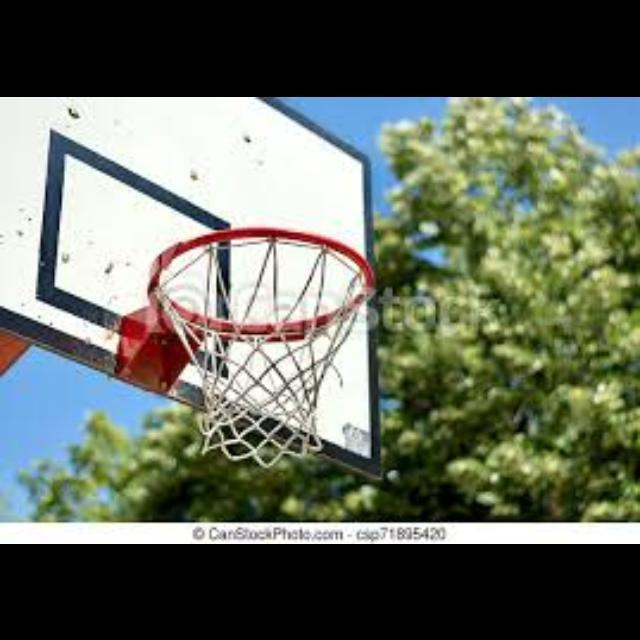rim: (148, 225, 374, 460)
